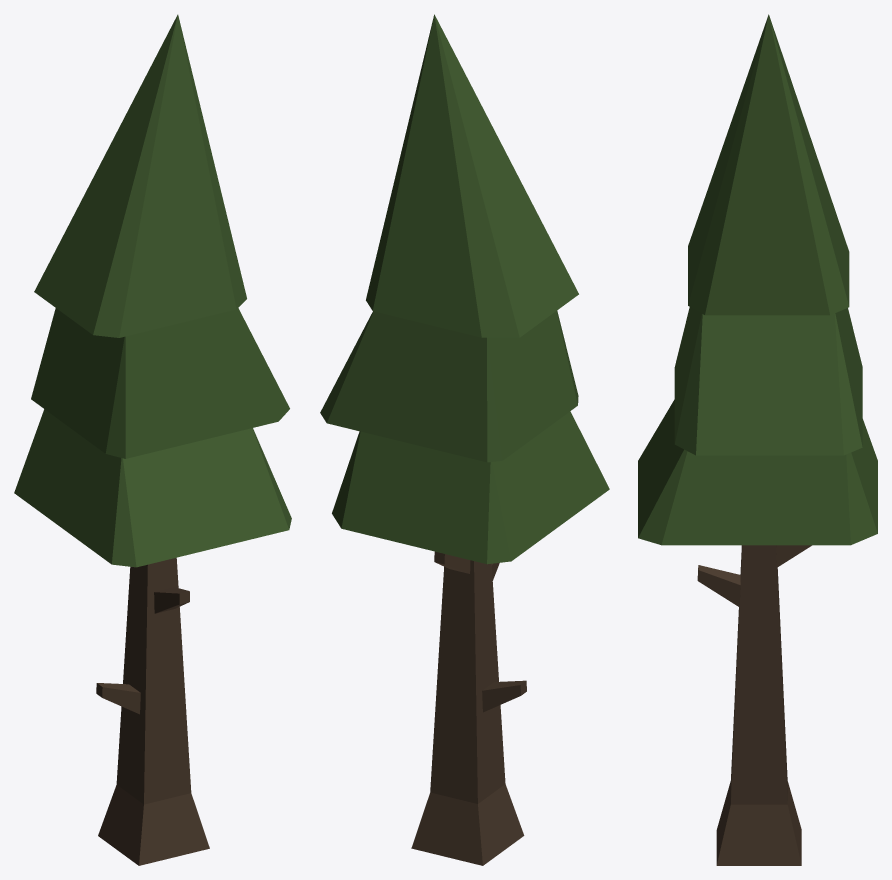
Rendered from tree_pine_tall.glb.
3 views of the same model, side by side, from view 1: azimuth 30°, elevation 25°; view 2: azimuth 150°, elevation 25°; view 3: azimuth 270°, elevation 25° (orthographic). The views are drawn at different scales.
Parts seen in each view (by area): view 1: tree_pineTallA_detailed; view 2: tree_pineTallA_detailed; view 3: tree_pineTallA_detailed.
Boxes of the visible parts, bbox=[...] form: tree_pineTallA_detailed: bbox=[14, 14, 291, 865]; tree_pineTallA_detailed: bbox=[320, 14, 609, 865]; tree_pineTallA_detailed: bbox=[638, 14, 877, 865].
Bounding box in the file's own units: 3.53 × 14 × 3.59.
